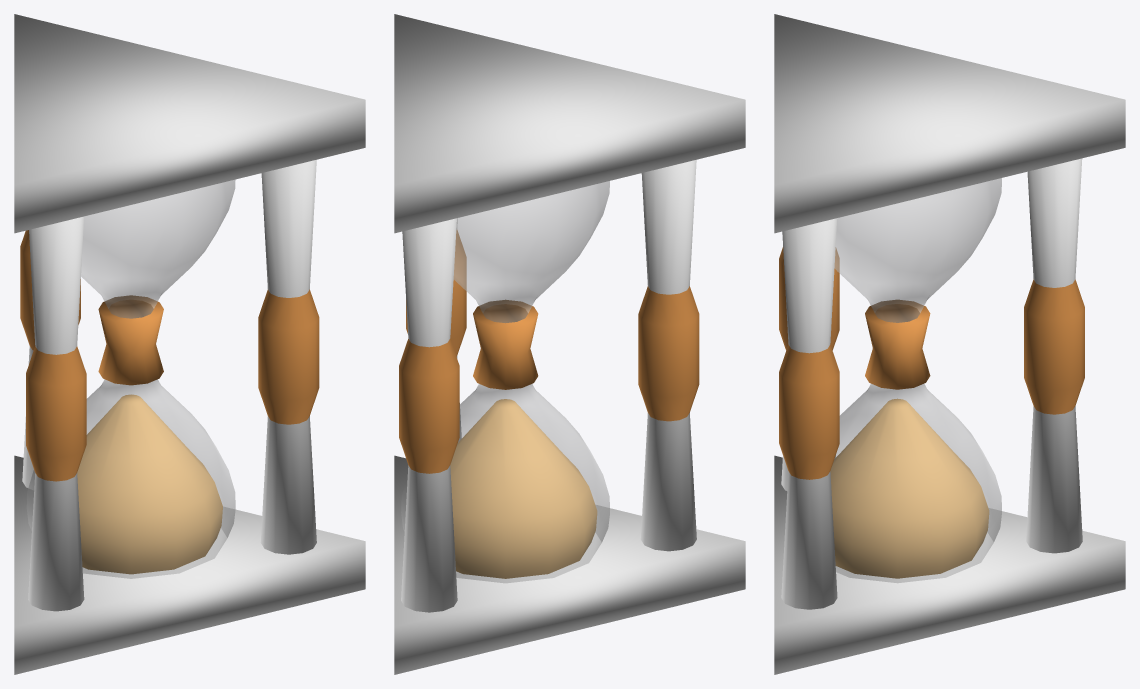
The model's file is Hourglass.fbx.
3 renders of one model, left to right at view 1: azimuth 30°, elevation 25°; view 2: azimuth 150°, elevation 25°; view 3: azimuth 270°, elevation 25°, orthographic.
Parts seen in each view (by area): view 1: Circle.008; view 2: Circle.008; view 3: Circle.008.
Boxes of the visible parts, bbox=[...] form: Circle.008: bbox=[14, 14, 365, 674]; Circle.008: bbox=[394, 14, 745, 674]; Circle.008: bbox=[774, 14, 1125, 674].
Size of the model in its own units: 20.46 by 27.27 by 17.72.
